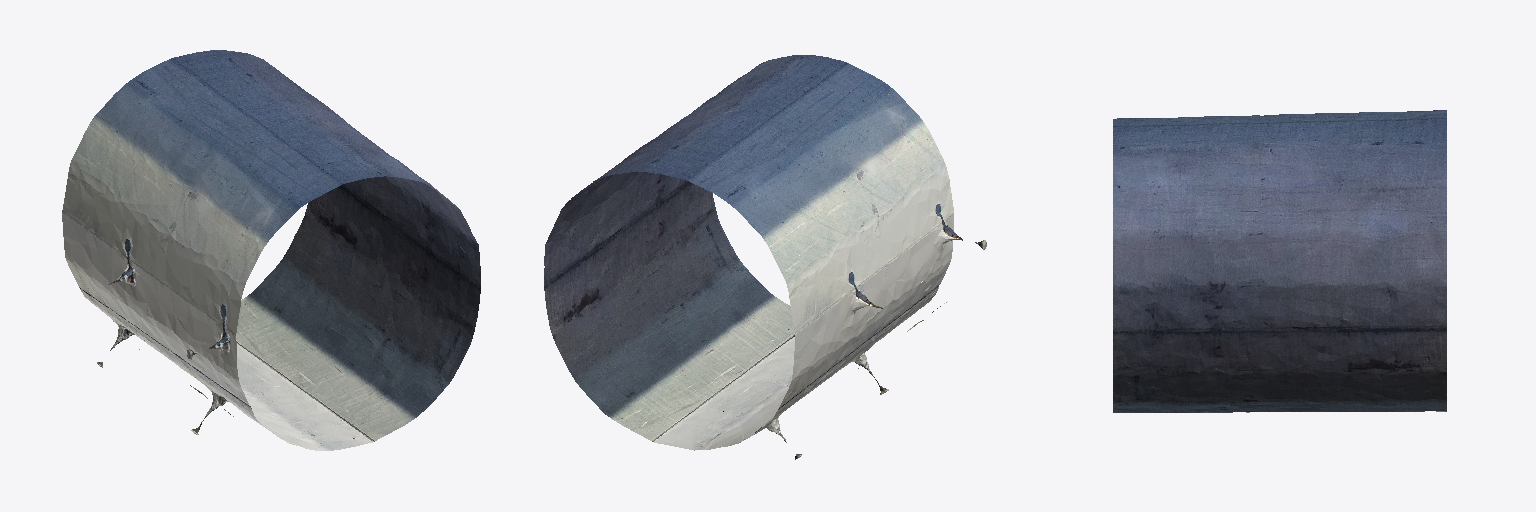
The picture shows the model from 3 angles: view 1: azimuth 30°, elevation 25°; view 2: azimuth 150°, elevation 25°; view 3: azimuth 270°, elevation 25°; orthographic projection.
Size of the model in its own units: 1.4 by 1.29 by 1.42.
Materials: 2 (1 with a texture image).